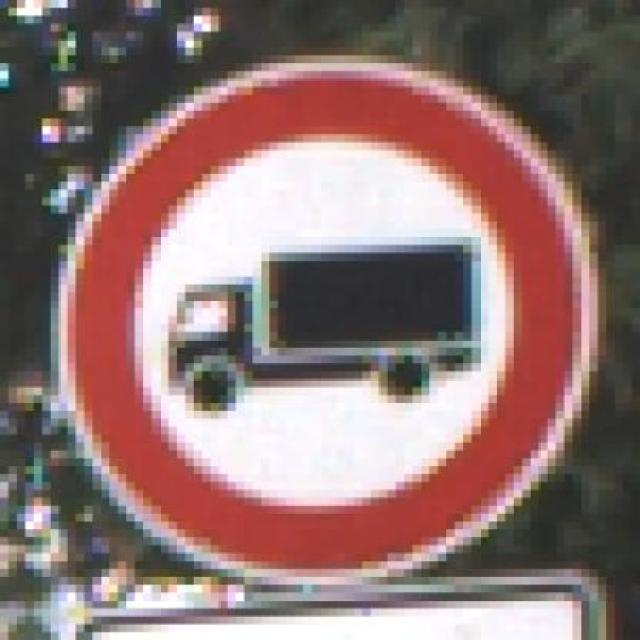Truck traffic is prohibited: (42, 48, 606, 584)
